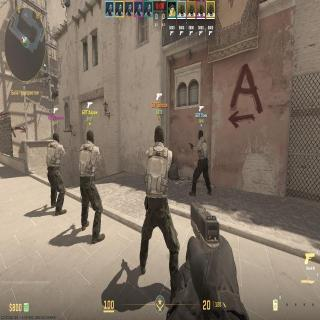T-Body: (144, 118, 178, 280), (76, 127, 108, 244), (45, 132, 69, 216), (192, 126, 212, 198)
T-Head: (152, 126, 166, 145), (51, 132, 60, 144), (87, 130, 94, 144), (197, 129, 205, 139)
